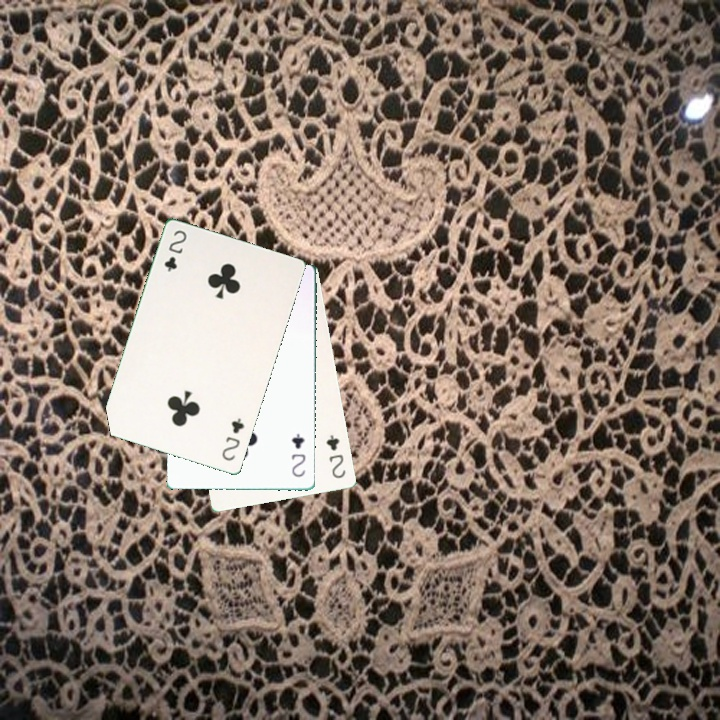2c: (218, 414, 247, 463), (160, 226, 189, 274), (322, 430, 348, 481), (287, 430, 308, 479)
